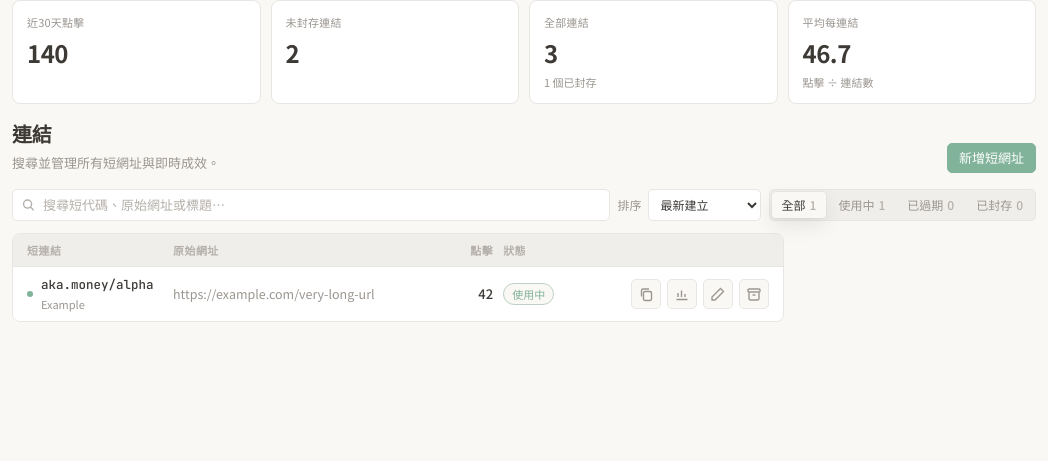
Test: DashboardView › shows a distinct no-results state, with a way out, when a filter matches nothing
This screenshot has width=1048, height=461.
Type "no-such-code" into the search field with placeholder "搜尋短代碼、原始網址或標題…" at (311, 204), box [12,188,610,220]
Wait 300 ms
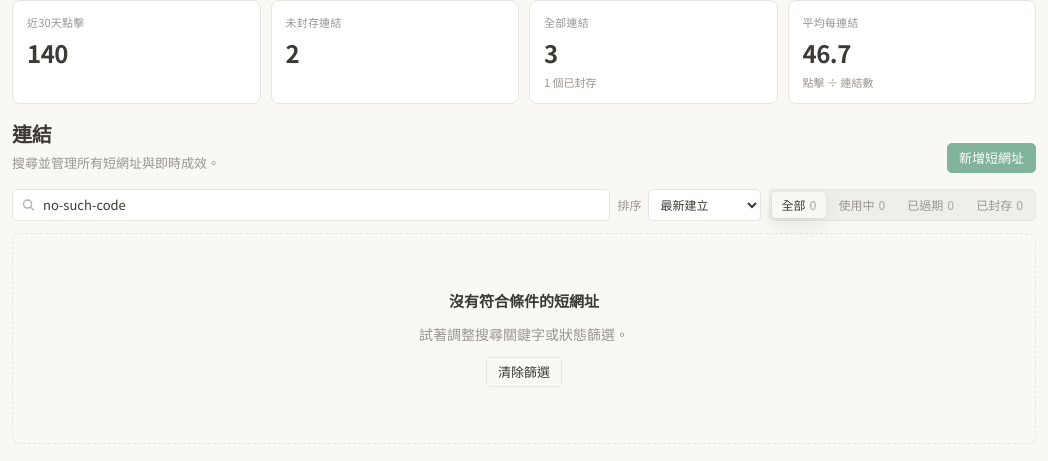
Result: no rows are shown
Result: the text "沒有符合條件的短網址" is shown at [449,290,599,312]
Result: the button with test id "clear-filters" is shown at [486,357,562,387]
